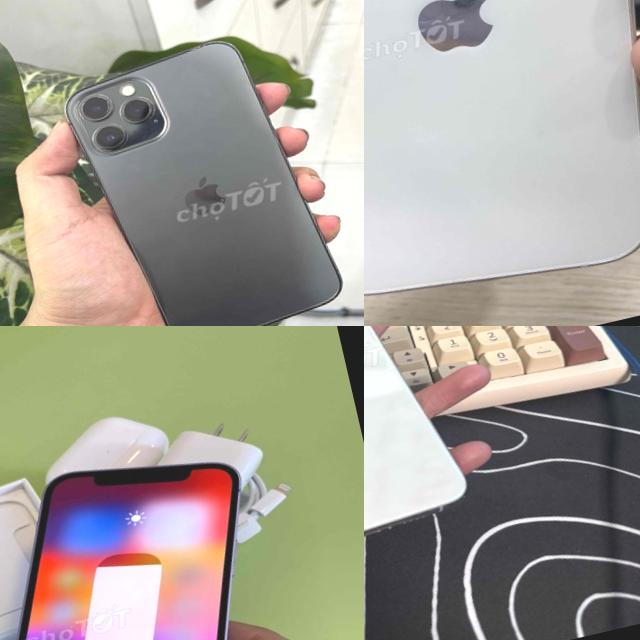gen_12_13: (54, 22, 353, 326), (364, 0, 640, 326), (0, 432, 310, 640)
gen_x_xs: (364, 326, 484, 584)
